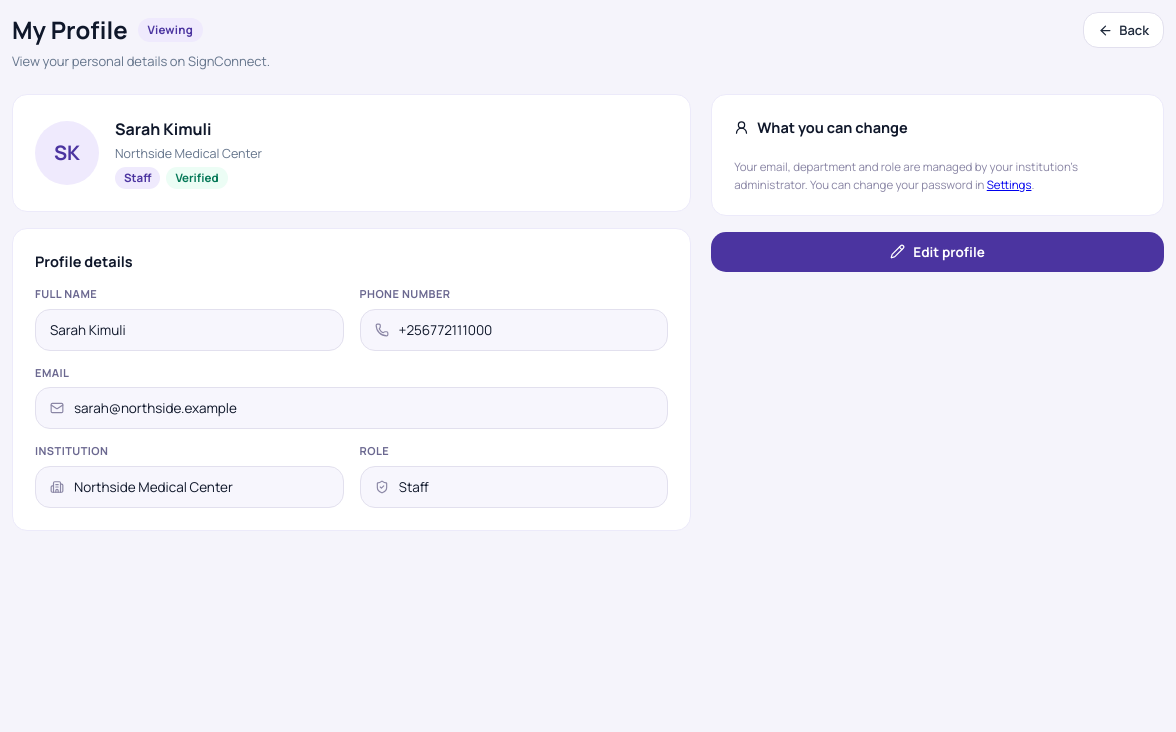
Test: MyProfilePage › does not send an invalid name
The image size is (1176, 732).
Step 1. Click the button "Edit profile" → [938, 252], box [711,232,1164,272]
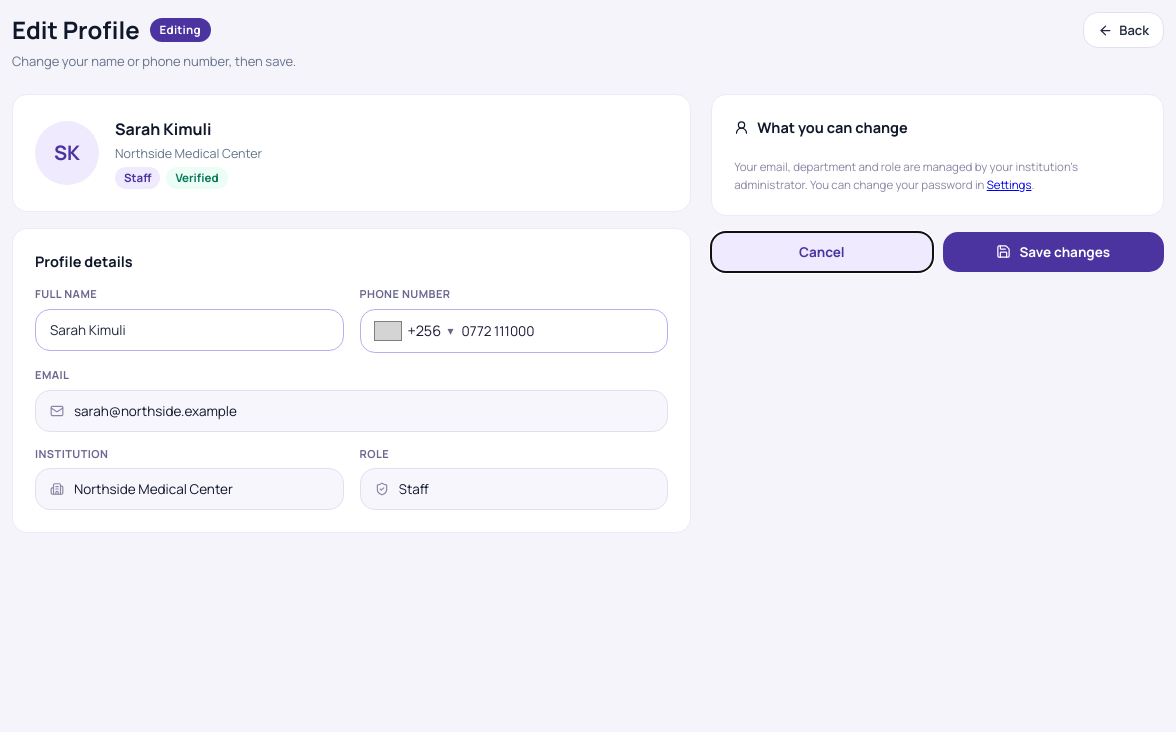
Step 2. Replace the text in the field labelled "Full name" with "12345" → [189, 330], box [35,309,344,351]
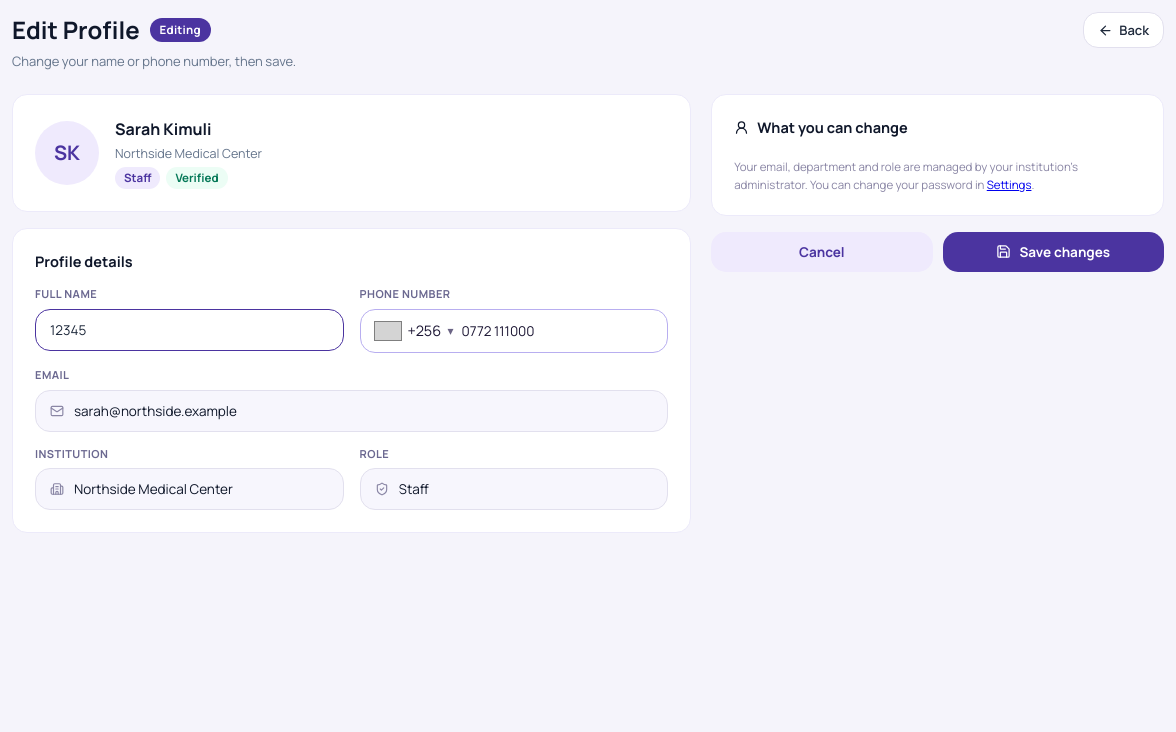
Step 3. Click the button "Save changes" → [1053, 252], box [943,232,1164,272]
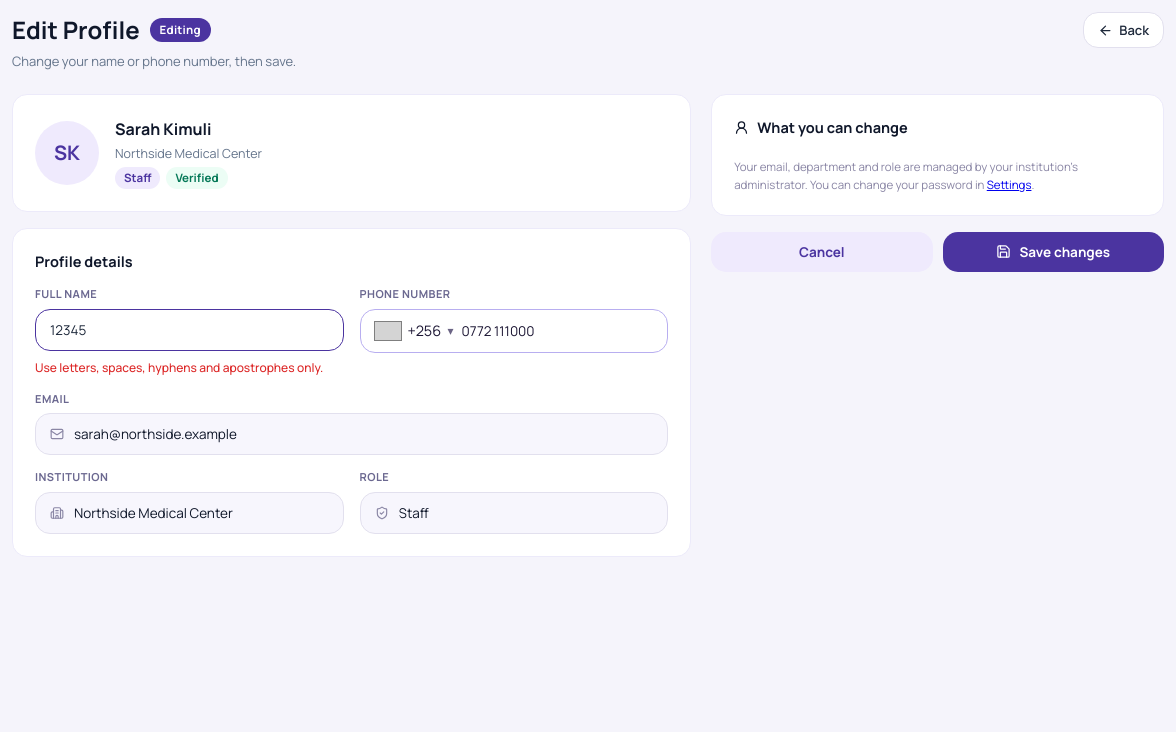
Result: the text "Use letters, spaces, hyphens and apostrophes only." is shown at [35,359,344,377]
